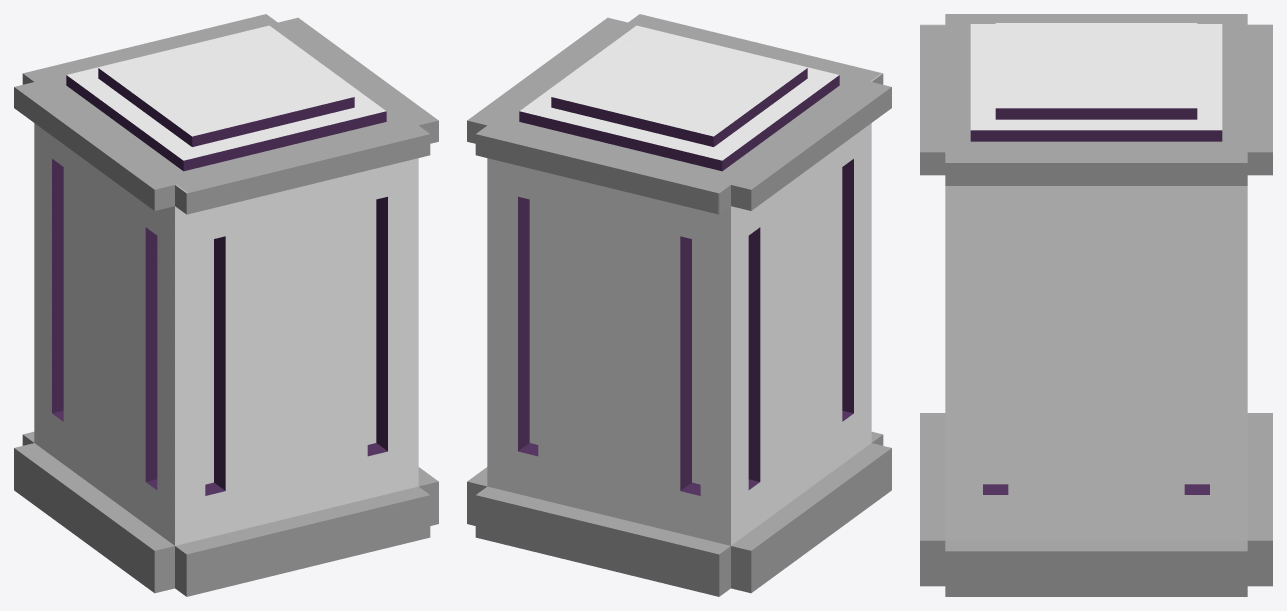
Rendered from pedestal.glb.
3 views of the same model, side by side, from view 1: azimuth 30°, elevation 25°; view 2: azimuth 150°, elevation 25°; view 3: azimuth 270°, elevation 25° (orthographic). The views are drawn at different scales.
Visible parts, largest first — view 1: Pedestal; view 2: Pedestal; view 3: Pedestal.
Part boxes in pixels (x1,y1,x2,y2): Pedestal: [14, 14, 438, 596]; Pedestal: [467, 14, 891, 596]; Pedestal: [920, 14, 1272, 596].
Size of what is drawn, in the model's own units: 0.7 by 1 by 0.7.
1 material, 1 textured.
